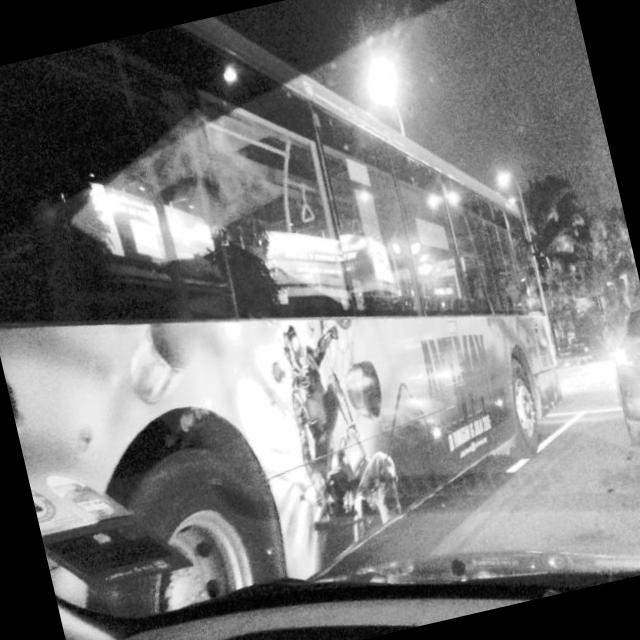Bus: (0, 72, 617, 639)
Car: (583, 273, 640, 471)
